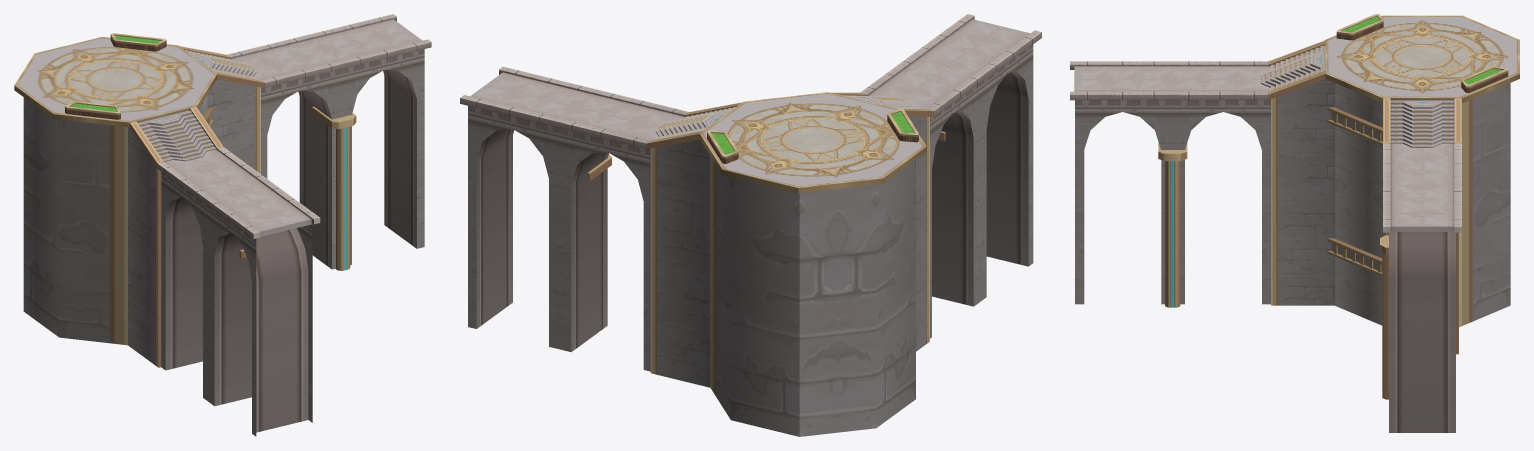
Rendered from zhucheng_daqiao.FBX.
3 views of the same model, side by side, from view 1: azimuth 30°, elevation 25°; view 2: azimuth 150°, elevation 25°; view 3: azimuth 270°, elevation 25° (orthographic). The views are drawn at different scales.
Visible parts, largest first — view 1: zhucheng_daqiao; view 2: zhucheng_daqiao; view 3: zhucheng_daqiao.
Part boxes in pixels (bbox=[...]): zhucheng_daqiao: bbox=[14, 14, 431, 436]; zhucheng_daqiao: bbox=[460, 14, 1041, 436]; zhucheng_daqiao: bbox=[1070, 14, 1519, 432].
Bounding box in the file's own units: 2756 × 1627 × 2756.
